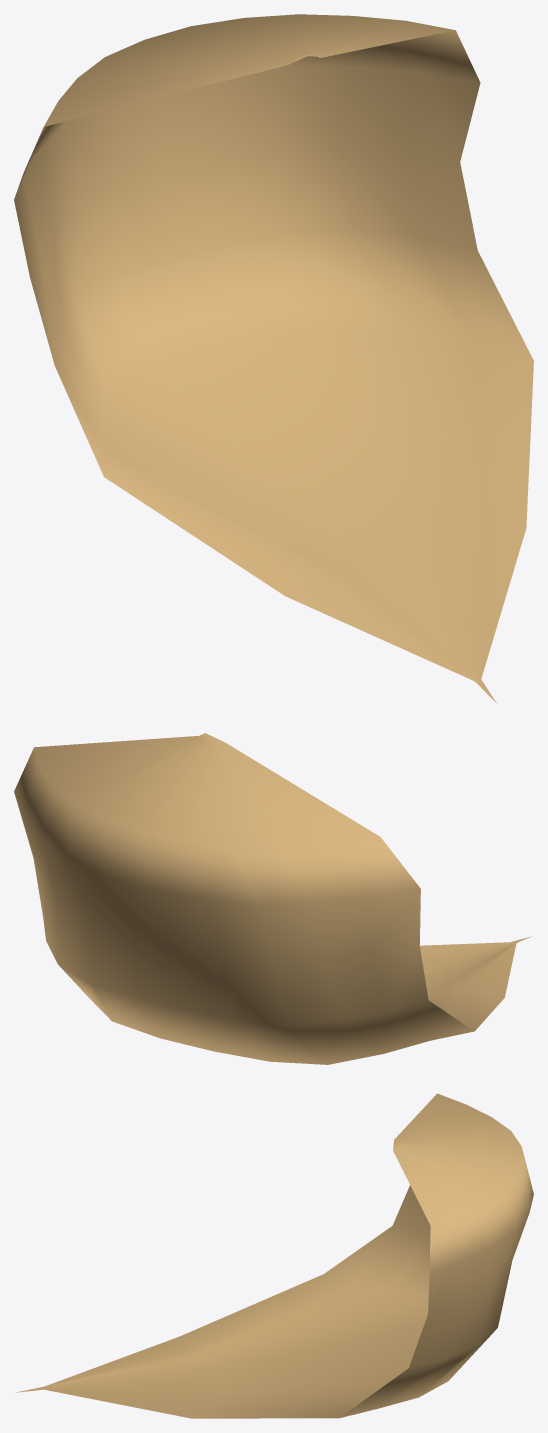
The model's file is abdomen_3_lower.obj.
3 renders of one model, top to bottom at view 1: azimuth 30°, elevation 25°; view 2: azimuth 150°, elevation 25°; view 3: azimuth 270°, elevation 25°, orthographic. The views are drawn at different scales.
Bounding box in the file's own units: 0.0526 × 0.0449 × 0.0754.
